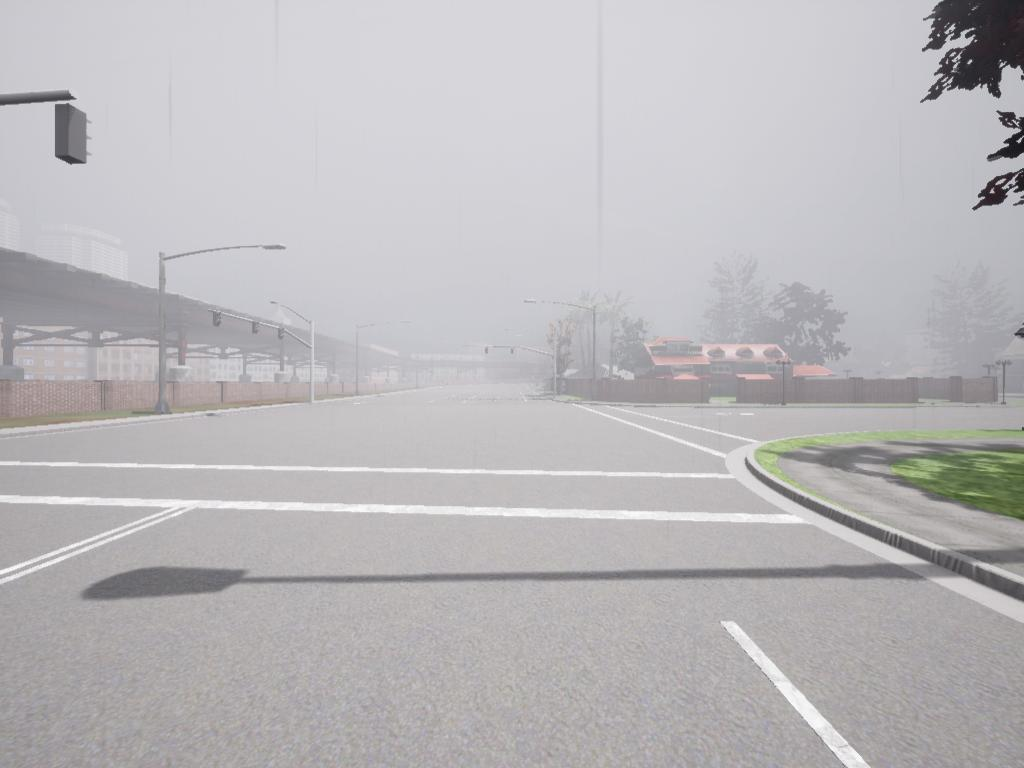traffic_light: (56, 106, 93, 166), (213, 311, 222, 332), (277, 327, 287, 341), (253, 319, 260, 337), (510, 347, 515, 355), (485, 347, 489, 355)
